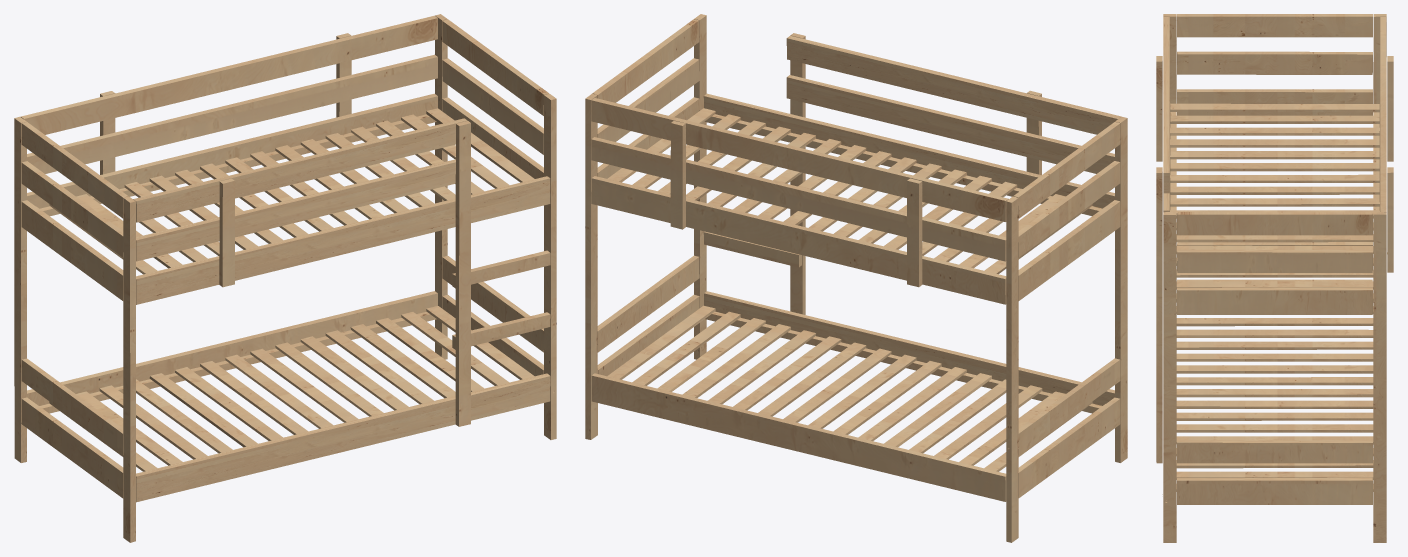
File: Beds.FBX
The picture shows the model from 3 angles, left to right: view 1: azimuth 30°, elevation 25°; view 2: azimuth 150°, elevation 25°; view 3: azimuth 270°, elevation 25°; orthographic projection. The views are drawn at different scales.
Visible parts, largest first — view 1: Beds; view 2: Beds; view 3: Beds.
Part boxes in pixels (left/top/right/bottom): Beds: left=14, top=14, right=556, bottom=542; Beds: left=585, top=14, right=1127, bottom=542; Beds: left=1156, top=14, right=1393, bottom=542.
Bounding box in the file's own units: 238 × 181 × 119.
Materials: 1 (1 with a texture image).
